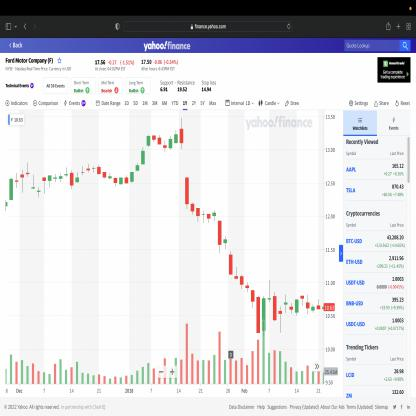Bearish: Shooting Star: (261, 278, 278, 339)
